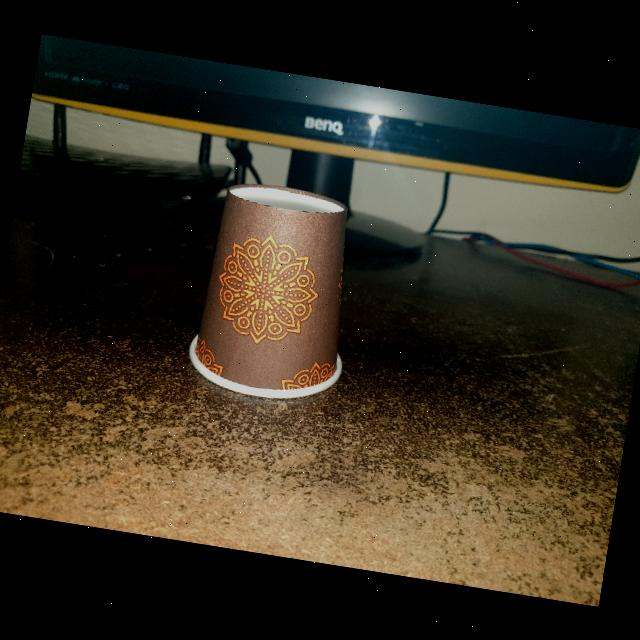trash: (176, 171, 377, 411)
